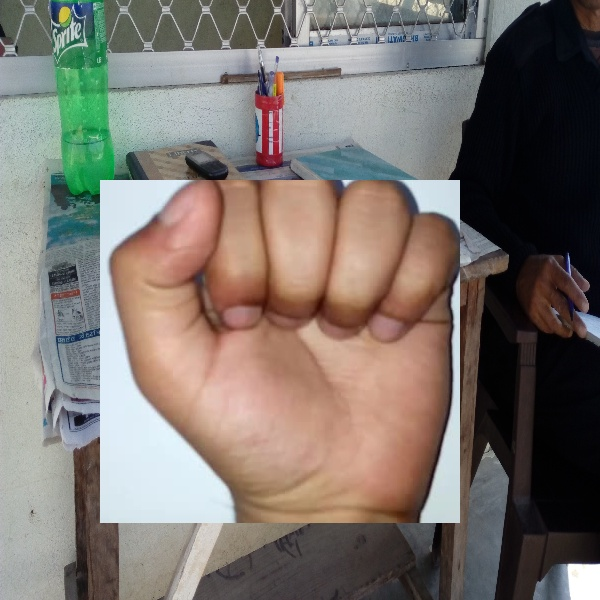A: (100, 180, 460, 523)
